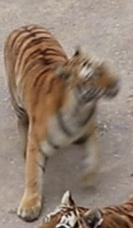tiger: (4, 25, 118, 221)
